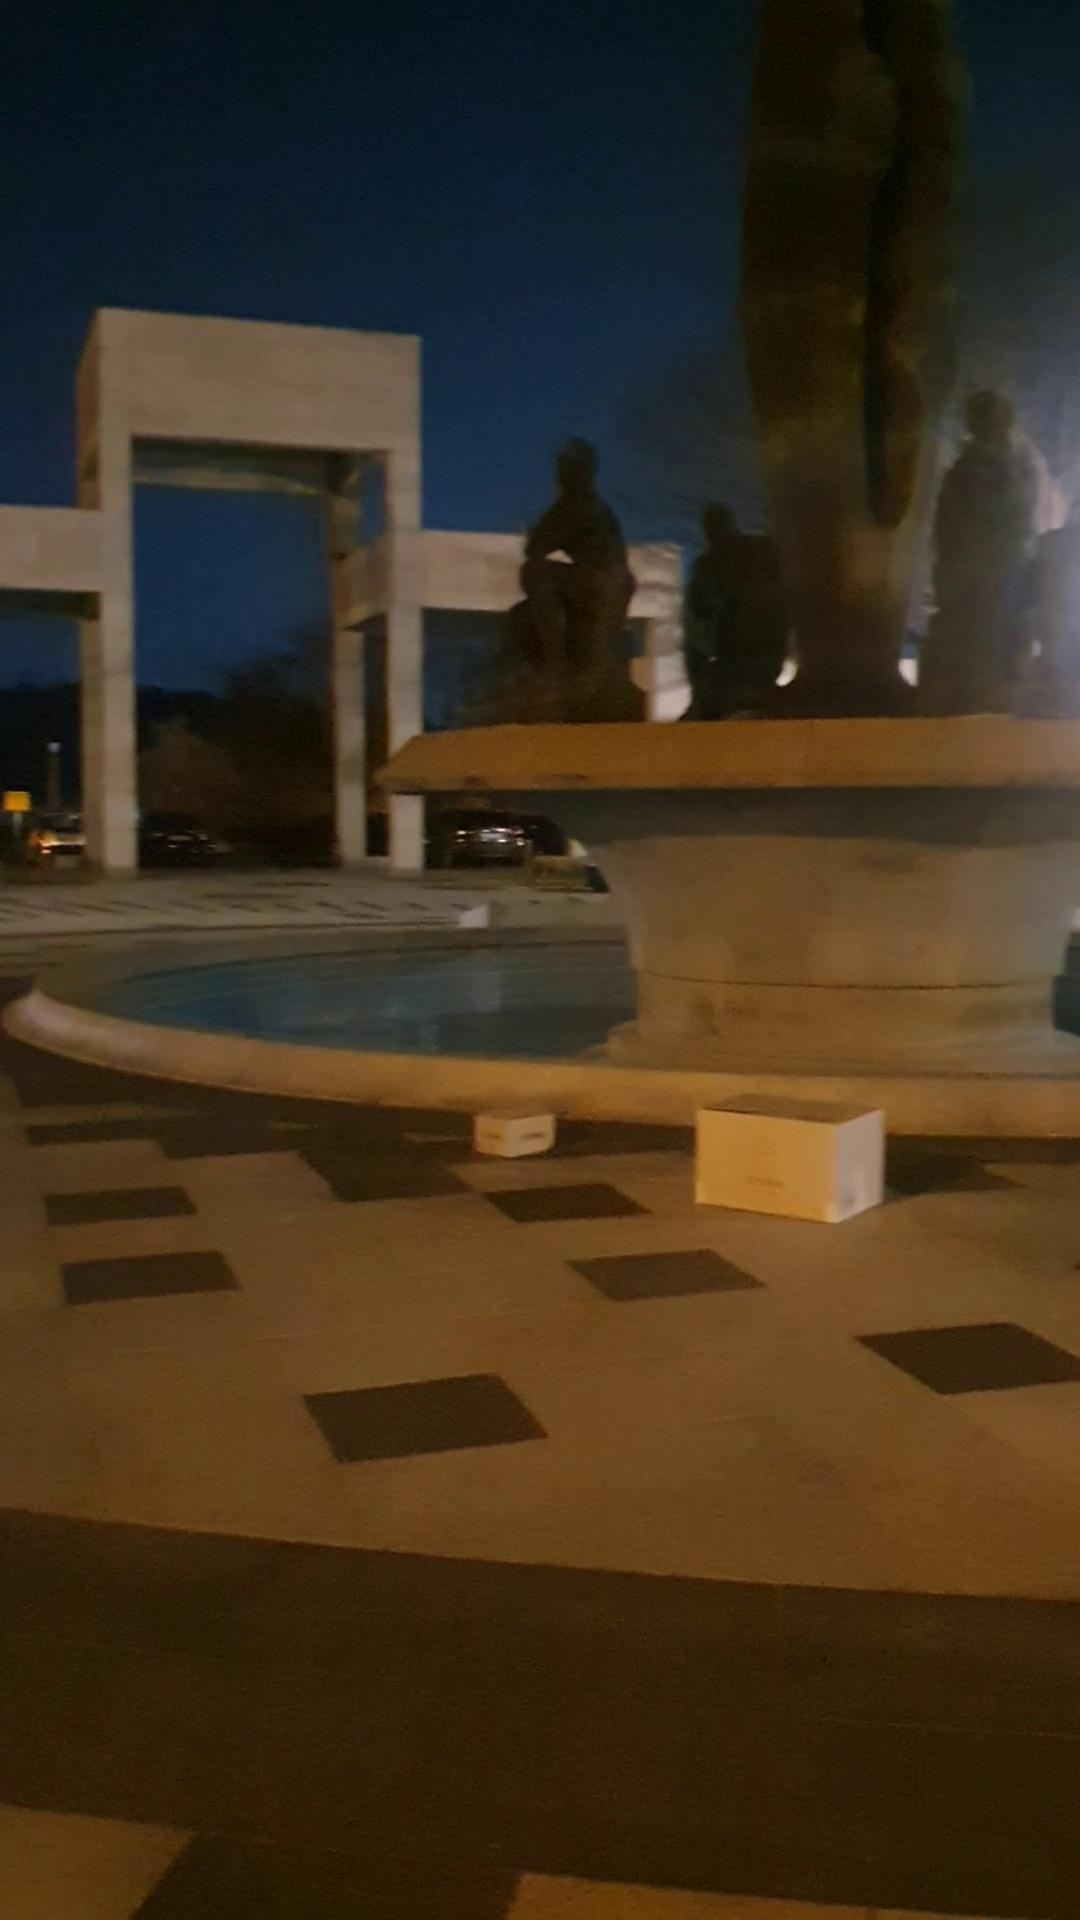Box: (691, 1091, 905, 1225), (468, 1095, 560, 1167)
